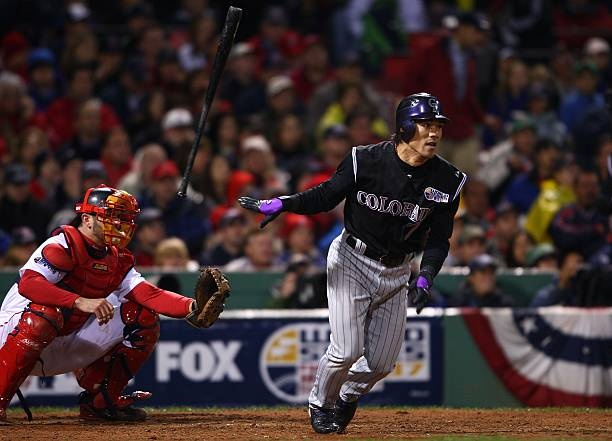bita: (174, 6, 245, 201)
